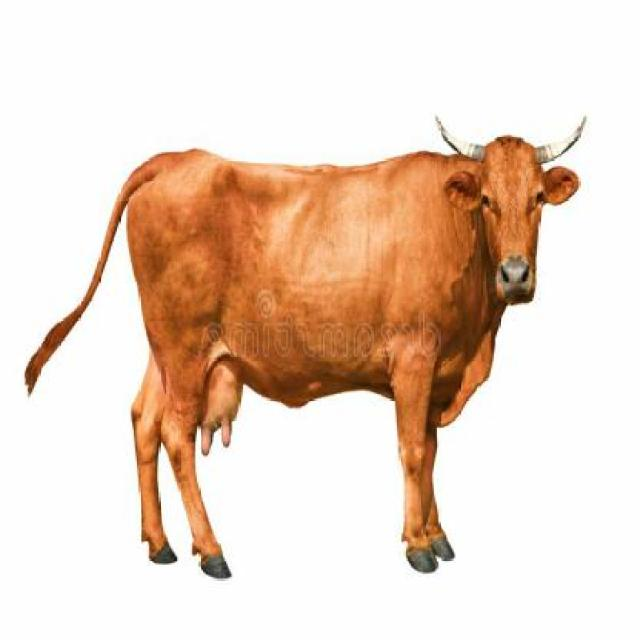Cow: (23, 106, 592, 586)
